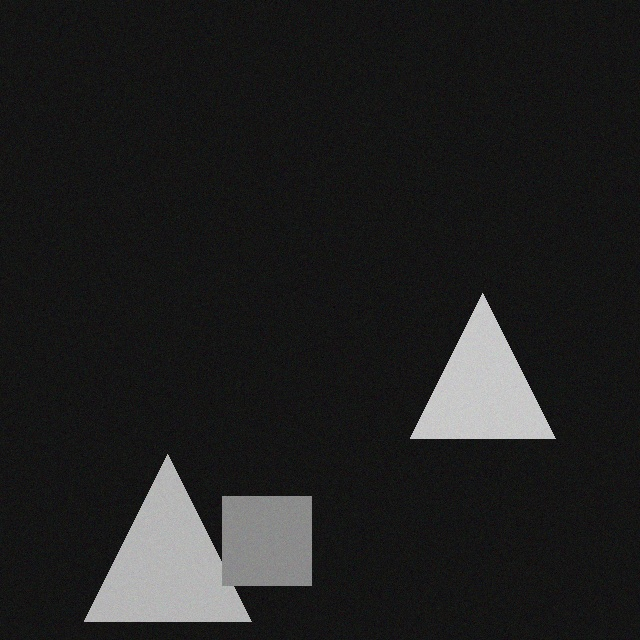square: (214, 485, 303, 574)
triangle: (76, 443, 243, 610), (402, 282, 547, 427)
